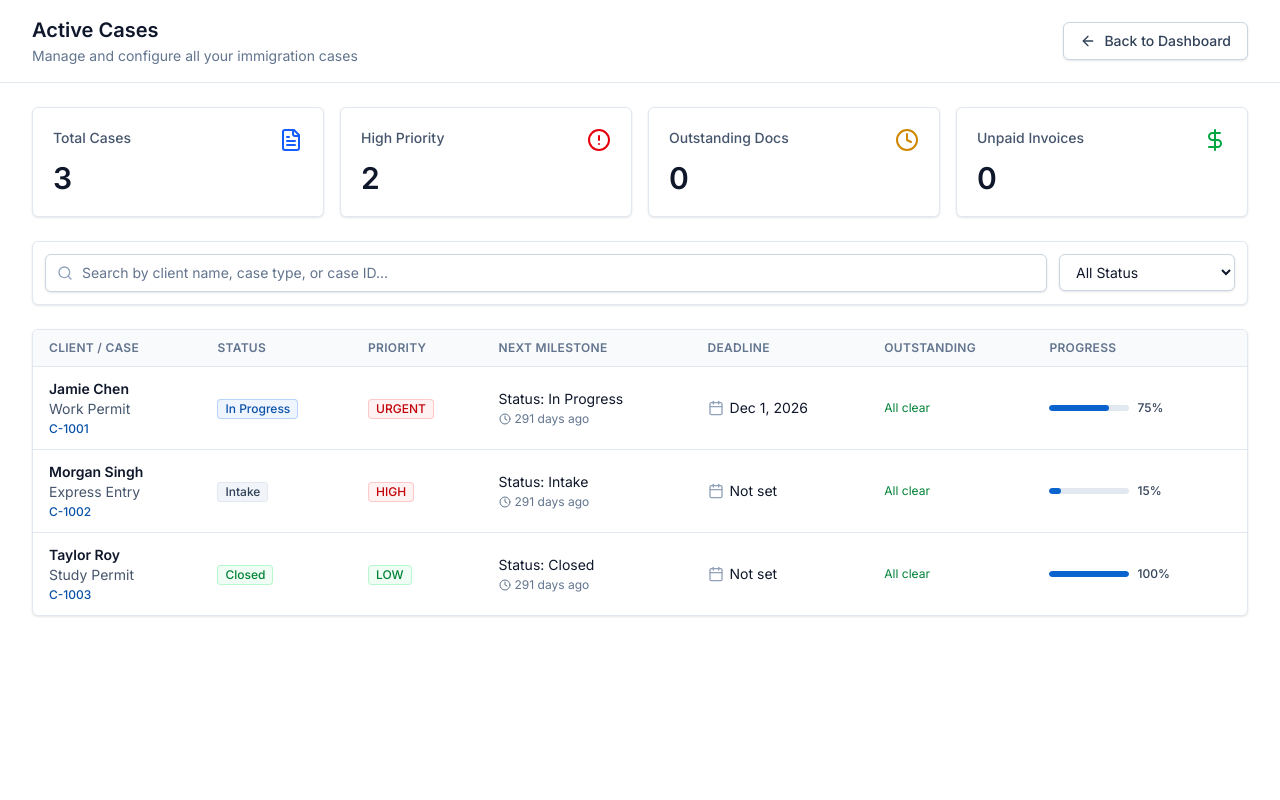
Test: ActiveCases page › CT-CASES-03: filters by status
Expected: the text "Jamie Chen" is shown, [49, 380, 129, 397]
Select "Closed" in the dropdown named "Filter by status" at (1147, 272), box [1059, 254, 1235, 291]
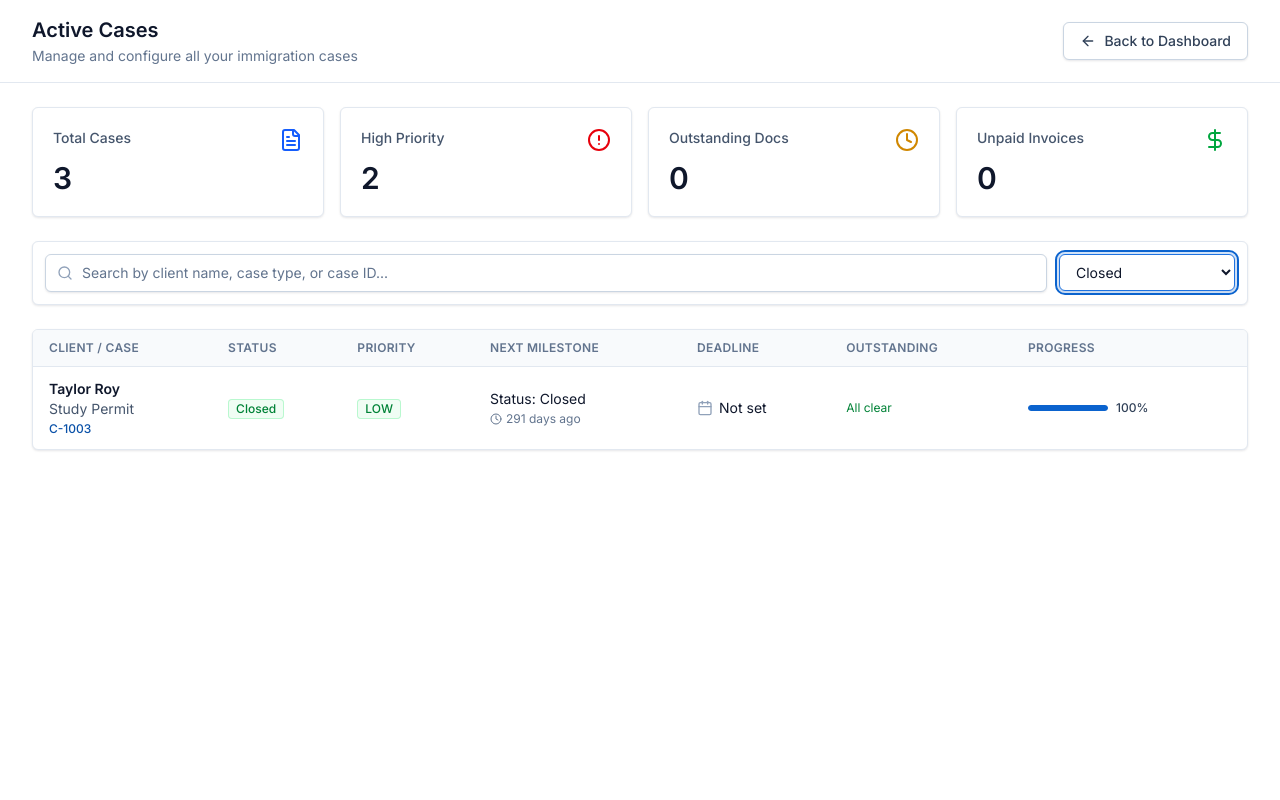
Expected: the text "Taylor Roy" is shown, [49, 380, 120, 397]
Result: the text "Jamie Chen" is gone
Result: the text "Morgan Singh" is gone
